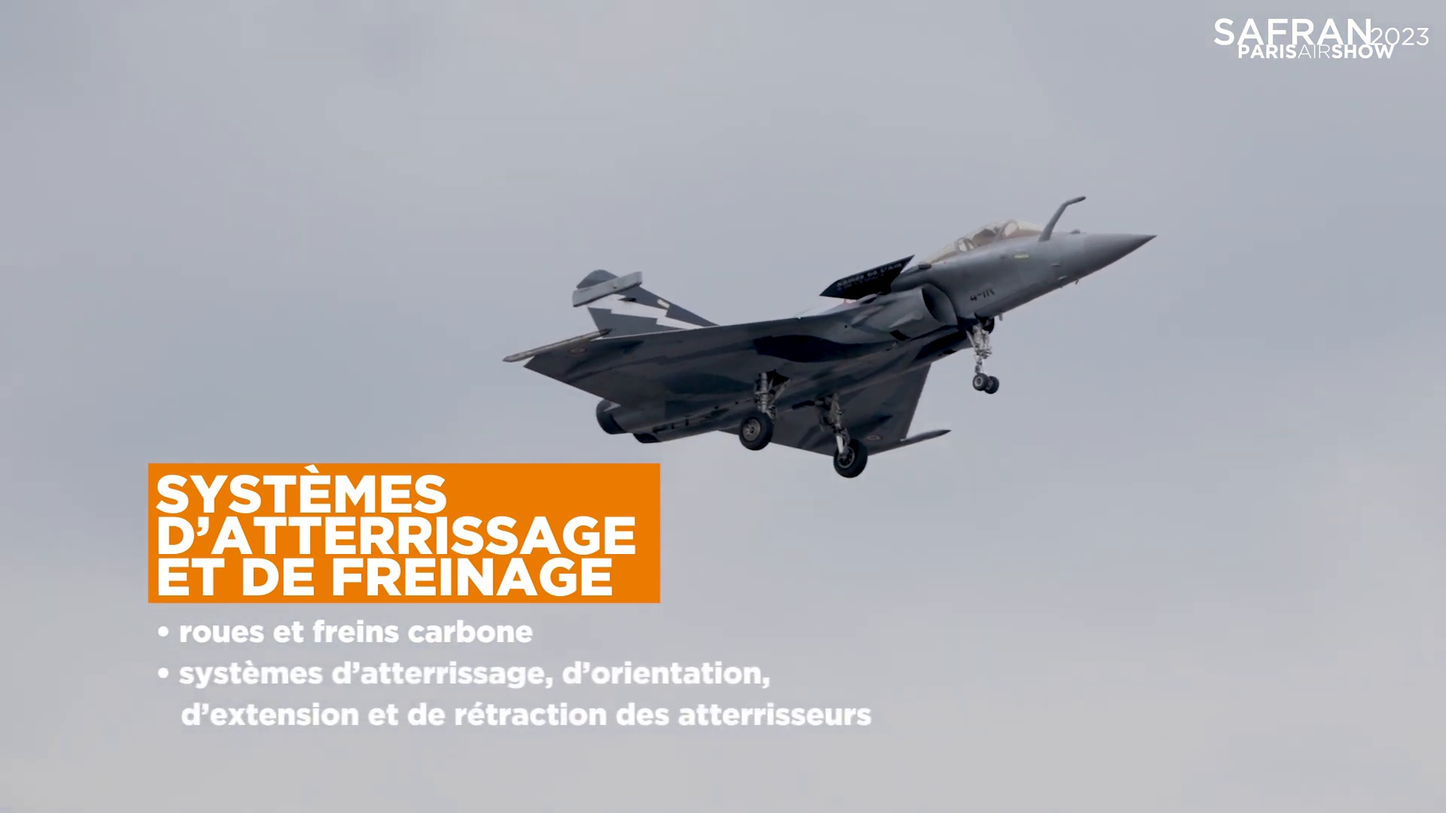Rafale: (493, 187, 1164, 487)
